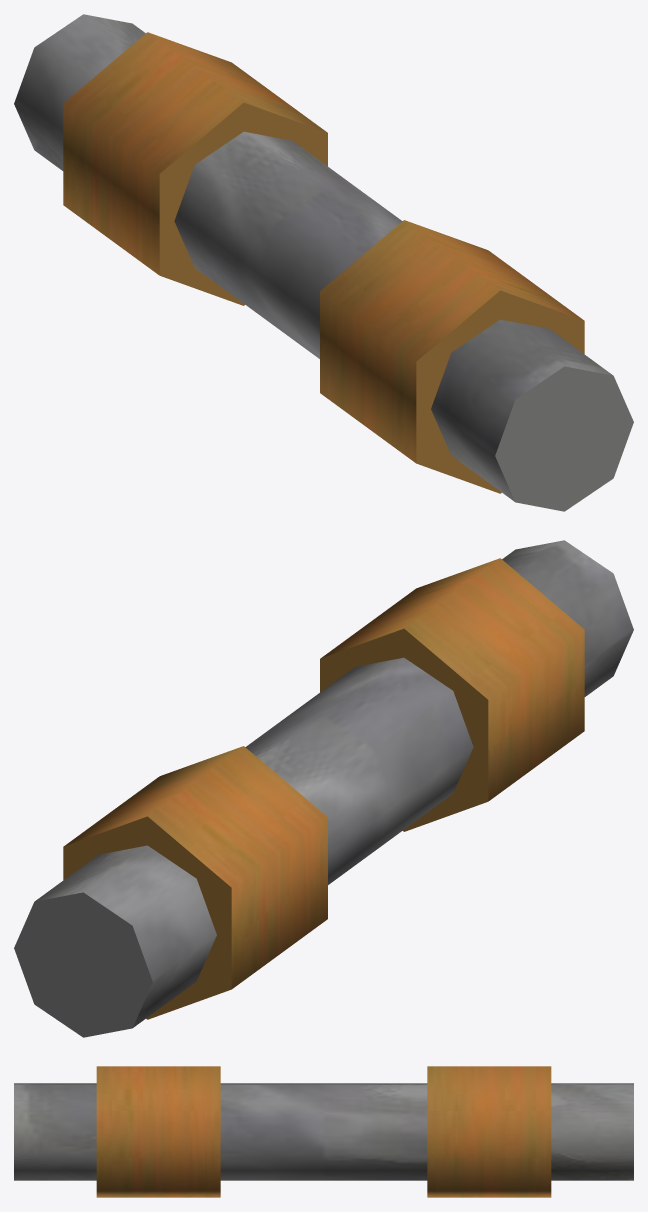
File: hcylinder_large_bar.gltf
3 renders of one model, top to bottom at view 1: azimuth 30°, elevation 25°; view 2: azimuth 150°, elevation 25°; view 3: azimuth 270°, elevation 25°, orthographic. The views are drawn at different scales.
Visible parts, largest first — view 1: Mesh_0, Mesh_1, Mesh_2; view 2: Mesh_0, Mesh_2, Mesh_1; view 3: Mesh_0, Mesh_1, Mesh_2.
Boxes of the visible parts, x1,y1,x2,y2 form: Mesh_0: (14,14,633,511); Mesh_1: (63,32,327,305); Mesh_2: (320,220,584,493); Mesh_0: (14,540,633,1037); Mesh_2: (320,558,584,831); Mesh_1: (63,746,327,1019); Mesh_0: (14,1083,633,1180); Mesh_1: (427,1066,551,1197); Mesh_2: (96,1066,220,1197).
Bounding box in the file's own units: 0.154 × 0.1778 × 0.762.
2 materials, 2 textured.
